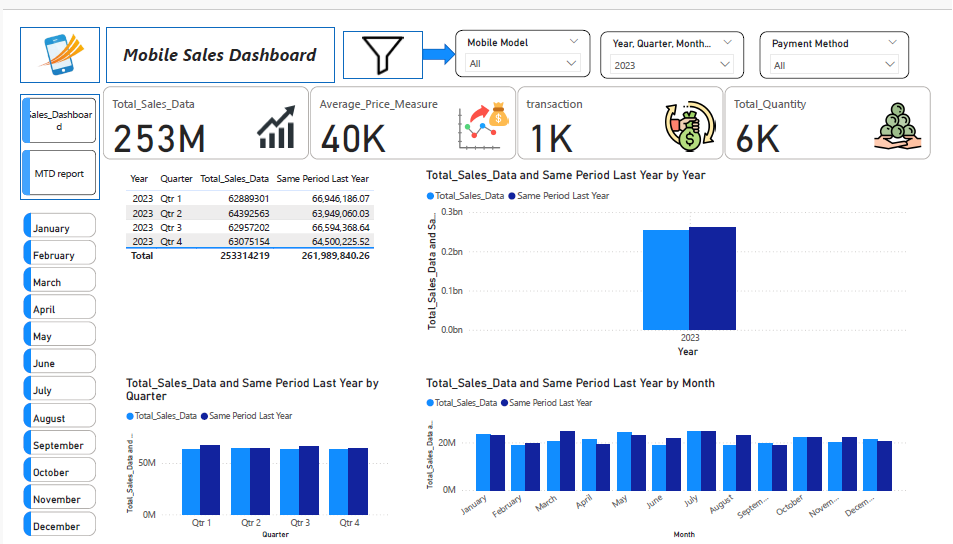

What the dashboard file says about the page in this screenshot:
{"tool":"powerbi","page":{"name":"Same Period Last Year","canvas":[1280,720],"ordinal":2},"visuals":[{"type":"shape","box":[0,0,111.2,77.6],"z":0},{"type":"image","box":[0,0,111.2,77.6],"z":1000},{"type":"shape","box":[0,93.7,111.2,147.8],"z":2000},{"type":"cardVisual","fields":{"Data":["Mobiles_Sales_Data.Total_Sales_Data","Mobiles_Sales_Data.Average_Price_Measure","Mobiles_Sales_Data.Total_Transactions_Measure","Mobiles_Sales_Data.Total_Quantity"]},"box":[111.2,77.6,1169.3,112.7],"z":3000},{"type":"slicer","fields":{"Values":["Mobiles_Sales_Data.Mobile Model"]},"box":[608.8,4.4,188.8,65.9],"z":4000},{"type":"slicer","fields":{"Values":["Custom_Calender.Date.Variation.Date Hierarchy.Year","Custom_Calender.Date.Variation.Date Hierarchy.Quarter","Custom_Calender.Date.Variation.Date Hierarchy.Month","Custom_Calender.Date.Variation.Date Hierarchy.Day"]},"box":[812.2,5.9,200.5,65.9],"z":5000},{"type":"slicer","fields":{"Values":["Mobiles_Sales_Data.Payment Method"]},"box":[1034.6,5.9,209.3,65.9],"z":6000},{"type":"shape","box":[452.2,5.9,111.2,65.9],"z":7000},{"type":"image","box":[474.1,4.4,67.3,70.2],"z":8000},{"type":"shape","box":[563.4,23.4,45.4,29.3],"z":9000},{"type":"shape","box":[121.5,0,319,77.6],"z":10000},{"type":"textbox","box":[133.2,16.1,295.6,43.9],"z":11000},{"type":"advancedSlicerVisual","fields":{"Values":["Custom_Calender.Date.Variation.Date Hierarchy.Month"]},"box":[0,254.6,111.2,465.4],"z":12000},{"type":"tableEx","fields":{"Values":["Custom_Calender.Date.Variation.Date Hierarchy.Year","Custom_Calender.Date.Variation.Date Hierarchy.Quarter","Mobiles_Sales_Data.Total_Sales_Data","Mobiles_Sales_Data.Same Period Last Year"]},"box":[142.8,196.5,378,270.4],"z":13000},{"type":"clusteredColumnChart","fields":{"Category":["Custom_Calender.Date.Variation.Date Hierarchy.Year","Custom_Calender.Date.Variation.Date Hierarchy.Quarter"],"Y":["Mobiles_Sales_Data.Total_Sales_Data","Mobiles_Sales_Data.Same Period Last Year"]},"box":[562.7,196.5,682,270.4],"z":14000},{"type":"clusteredColumnChart","fields":{"Y":["Mobiles_Sales_Data.Total_Sales_Data","Mobiles_Sales_Data.Same Period Last Year"],"Category":["Custom_Calender.Date.Variation.Date Hierarchy.Month"]},"box":[562.7,487.1,682,233.5],"z":15000},{"type":"clusteredColumnChart","fields":{"Category":["Custom_Calender.Date.Variation.Date Hierarchy.Quarter"],"Y":["Mobiles_Sales_Data.Total_Sales_Data","Mobiles_Sales_Data.Same Period Last Year"]},"box":[142.8,487.1,378,233.5],"z":16000},{"type":"pageNavigator","box":[3.4,99.1,102.5,136.1],"z":17000}]}

Visuals, with their boxes in screenshot pixels (x1, y1, x2, y2), scaled from the page's 1280x720 canvas onto the 953x544 screenshot:
shape: 0,0,83,59
image: 0,0,83,59
shape: 0,71,83,182
cardVisual - Mobiles_Sales_Data.Total_Sales_Data x Mobiles_Sales_Data.Average_Price_Measure: 83,59,952,144
slicer - Mobiles_Sales_Data.Mobile Model: 453,3,594,53
slicer - Custom_Calender.Date.Variation.Date Hierarchy.Year x Custom_Calender.Date.Variation.Date Hierarchy.Quarter: 605,4,754,54
slicer - Mobiles_Sales_Data.Payment Method: 770,4,926,54
shape: 337,4,419,54
image: 353,3,403,56
shape: 419,18,453,40
shape: 90,0,328,59
textbox: 99,12,319,45
advancedSlicerVisual - Custom_Calender.Date.Variation.Date Hierarchy.Month: 0,192,83,543
tableEx - Custom_Calender.Date.Variation.Date Hierarchy.Year x Custom_Calender.Date.Variation.Date Hierarchy.Quarter: 106,148,388,353
clusteredColumnChart - Custom_Calender.Date.Variation.Date Hierarchy.Year x Custom_Calender.Date.Variation.Date Hierarchy.Quarter: 419,148,927,353
clusteredColumnChart - Mobiles_Sales_Data.Total_Sales_Data x Mobiles_Sales_Data.Same Period Last Year: 419,368,927,543
clusteredColumnChart - Custom_Calender.Date.Variation.Date Hierarchy.Quarter x Mobiles_Sales_Data.Total_Sales_Data: 106,368,388,543
pageNavigator: 3,75,79,178
